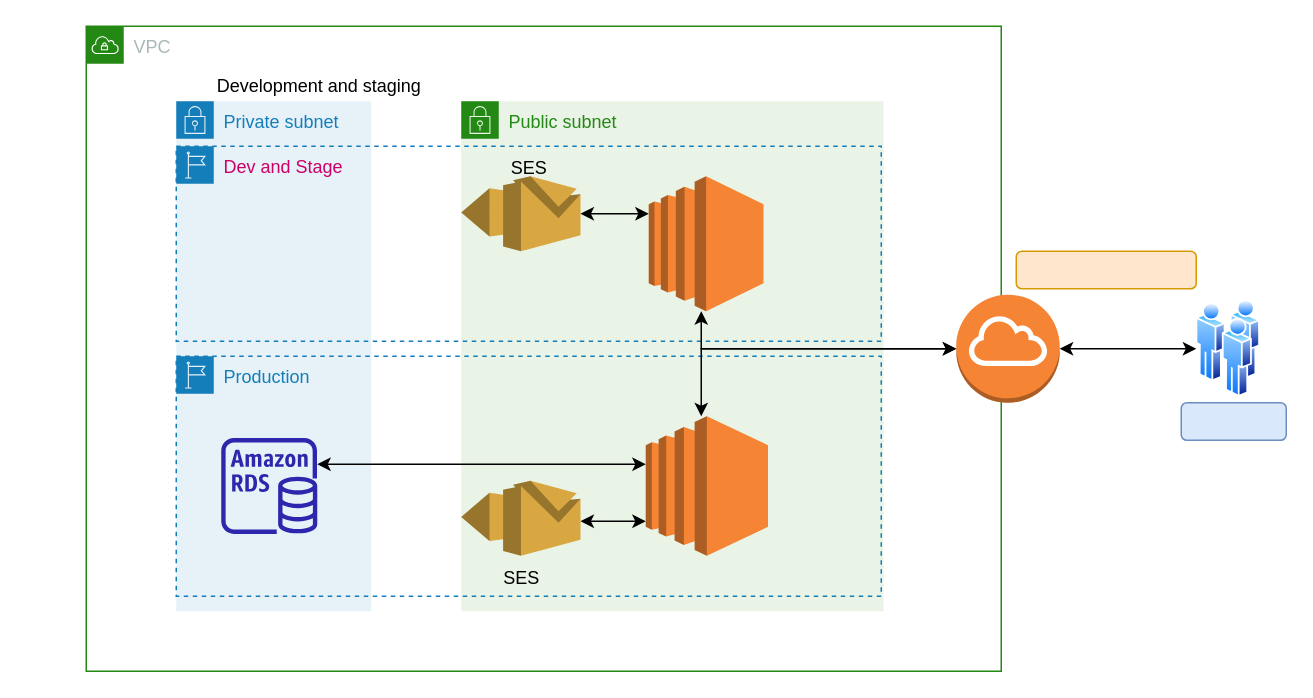
Some shapes in this 1313 by 698 pixel diagram are drawn without their labels. The centre of each missing label's shape, as x and y in pixels:
"Internet Gateway" goes at point (1105, 269).
"Users" goes at point (1233, 420).
